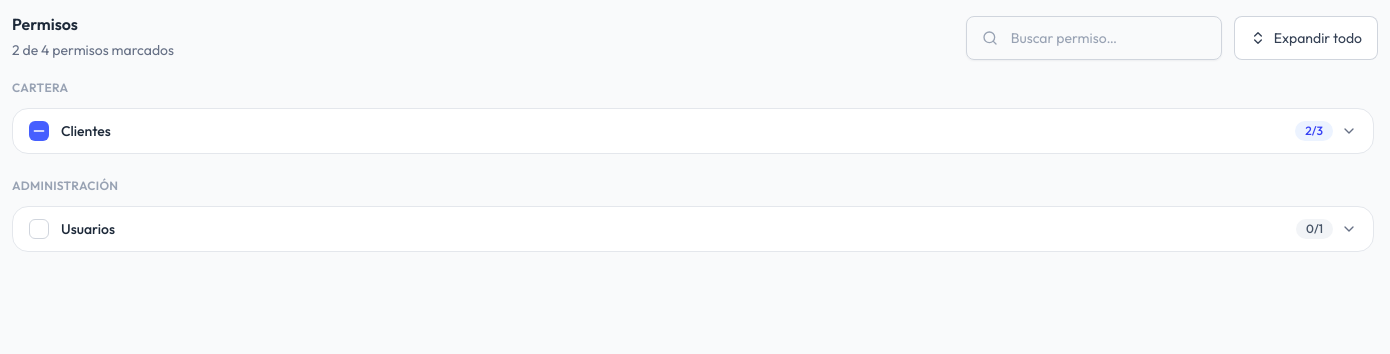
Test: PermissionMatrix › en el usuario distingue lo que viene del rol, las excepciones concedidas y las quitadas
Click the button "Clientes 2/3" at [86, 131], box [61,121,1357,141]
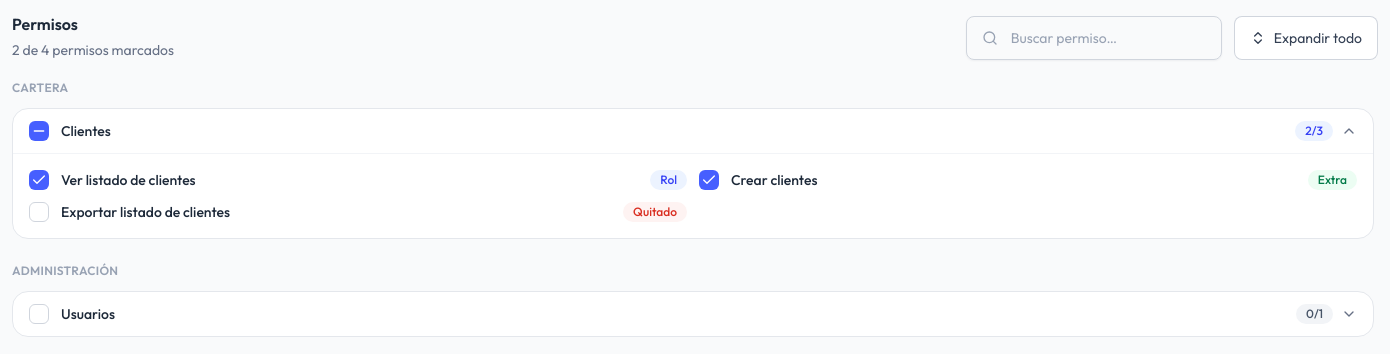
expect the text "Rol" is shown: met, box [650,170,687,190]
expect the text "Extra" is shown: met, box [1308,170,1357,190]
expect the text "Quitado" is shown: met, box [623,202,687,222]
